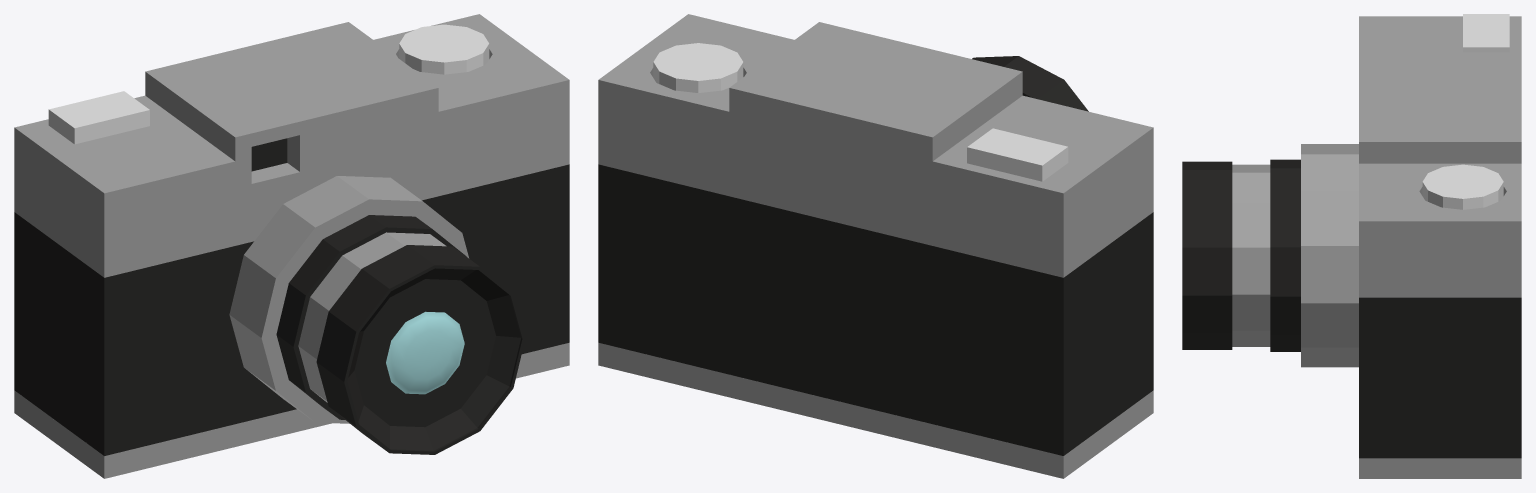
The picture shows the model from 3 angles, left to right: view 1: azimuth 30°, elevation 25°; view 2: azimuth 150°, elevation 25°; view 3: azimuth 270°, elevation 25°; orthographic projection. The views are drawn at different scales.
Visible parts, largest first — view 1: Cube, Cylinder, Cylinder.001, Cube.001; view 2: Cube, Cylinder.001, Cube.001, Cylinder; view 3: Cube, Cylinder, Cylinder.001, Cube.001.
Boxes of the visible parts, <box> form: Cube: <box>14,14,569,478</box>; Cylinder: <box>229,176,525,454</box>; Cylinder.001: <box>399,24,489,74</box>; Cube.001: <box>48,91,149,144</box>; Cube: <box>598,14,1153,478</box>; Cylinder.001: <box>653,43,743,92</box>; Cube.001: <box>967,128,1068,181</box>; Cylinder: <box>972,56,1088,111</box>; Cube: <box>1359,16,1521,478</box>; Cylinder: <box>1182,144,1358,367</box>; Cylinder.001: <box>1422,164,1503,209</box>; Cube.001: <box>1463,14,1509,52</box>.
Bounding box in the file's own units: 3.41 × 2.17 × 2.39.
